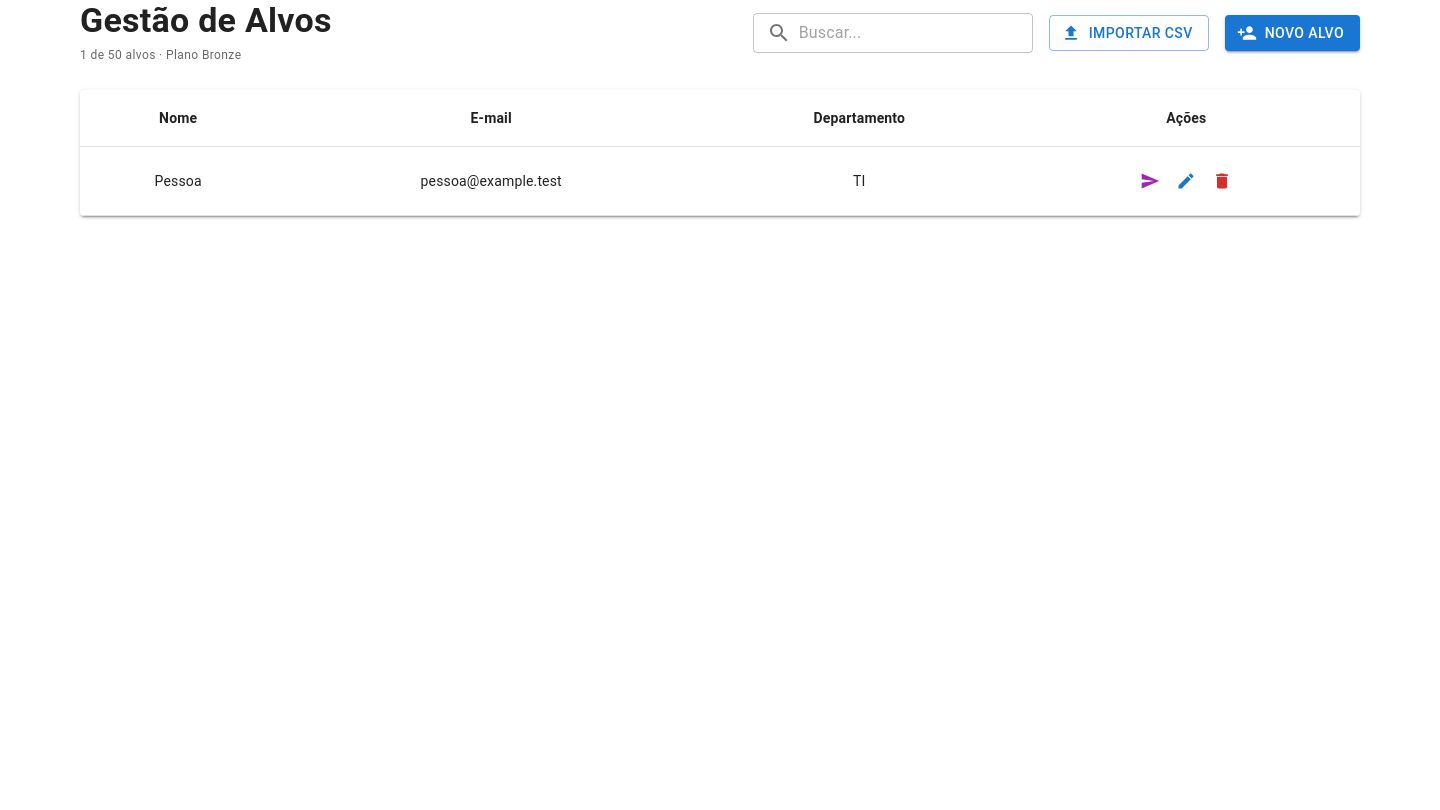
Test: Targets — conflitos de integridade › permite corrigir o cadastro e explica que campanhas ativadas preservam os destinatários
The image size is (1440, 810).
Expected: the text "pessoa@example.test" is shown, [276, 146, 706, 216]
Click the button named "Editar alvo" at point(1186, 181), box [1168, 163, 1204, 199]
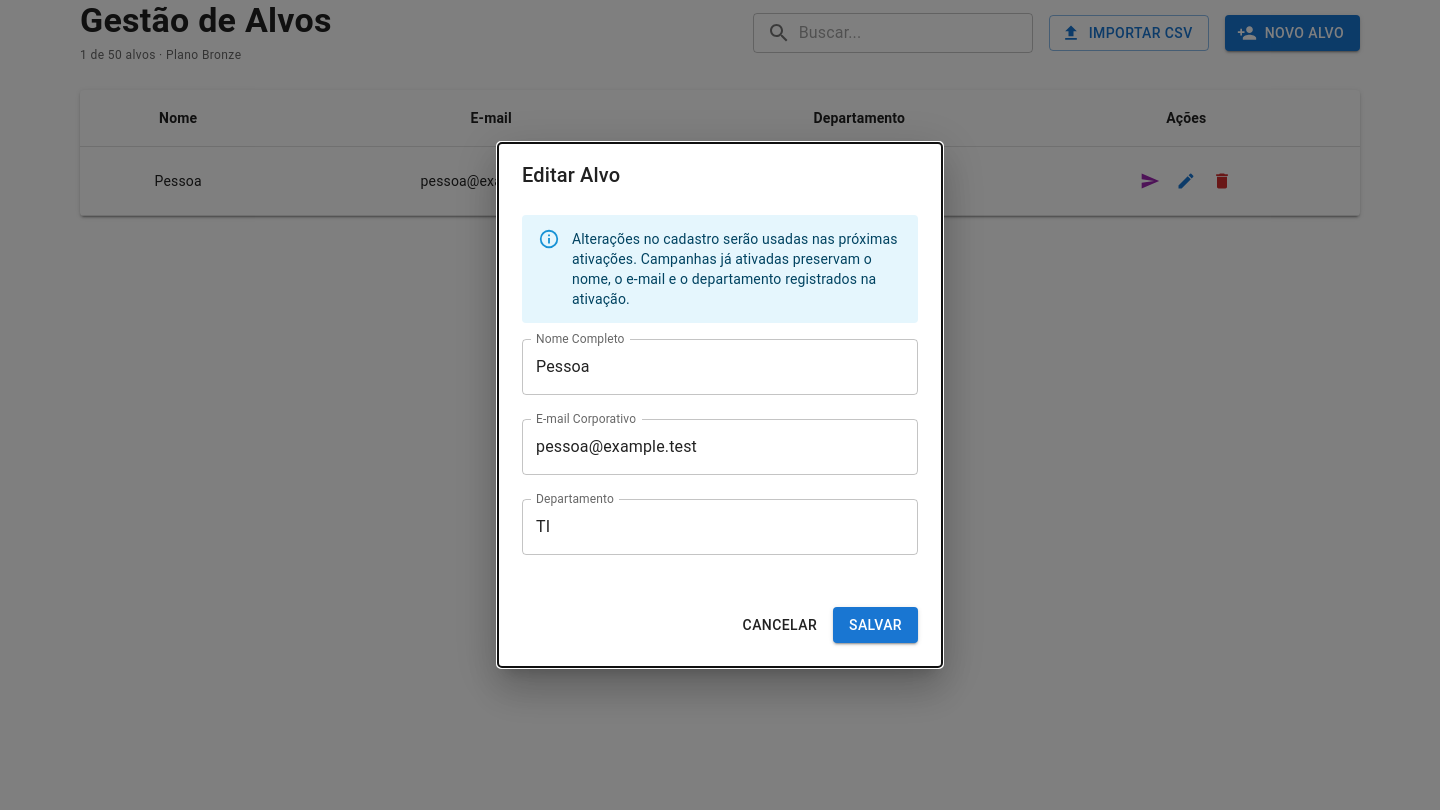
Now the text "Campanhas já ativadas preservam o nome" is shown, box [572, 231, 898, 307]
Replace the text in the field labelled "E-mail Corporativo" with "novo@example.test" at point(720, 447), box [522, 419, 918, 475]
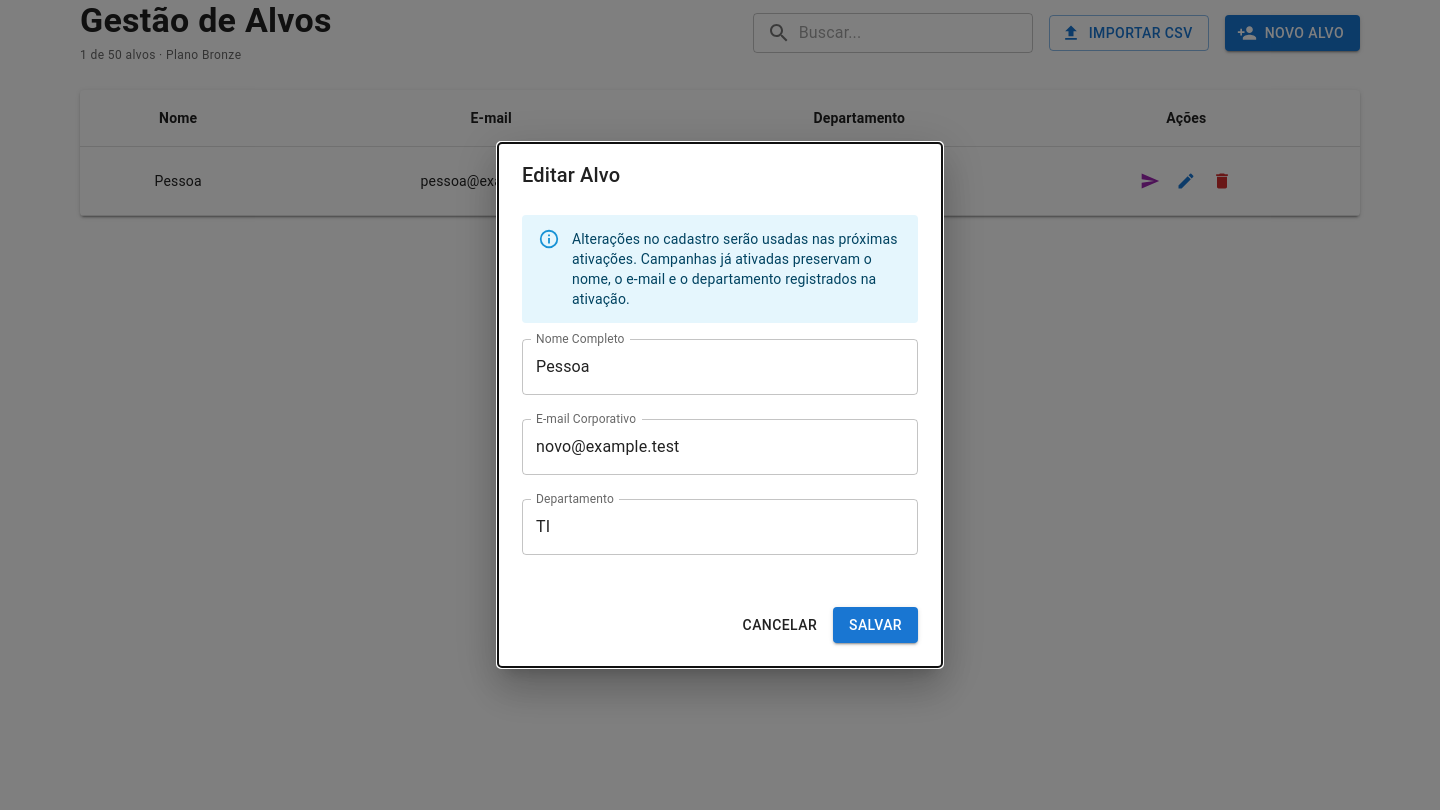
Replace the text in the field labelled "Departamento" with "Financeiro" at point(720, 527), box [522, 499, 918, 555]
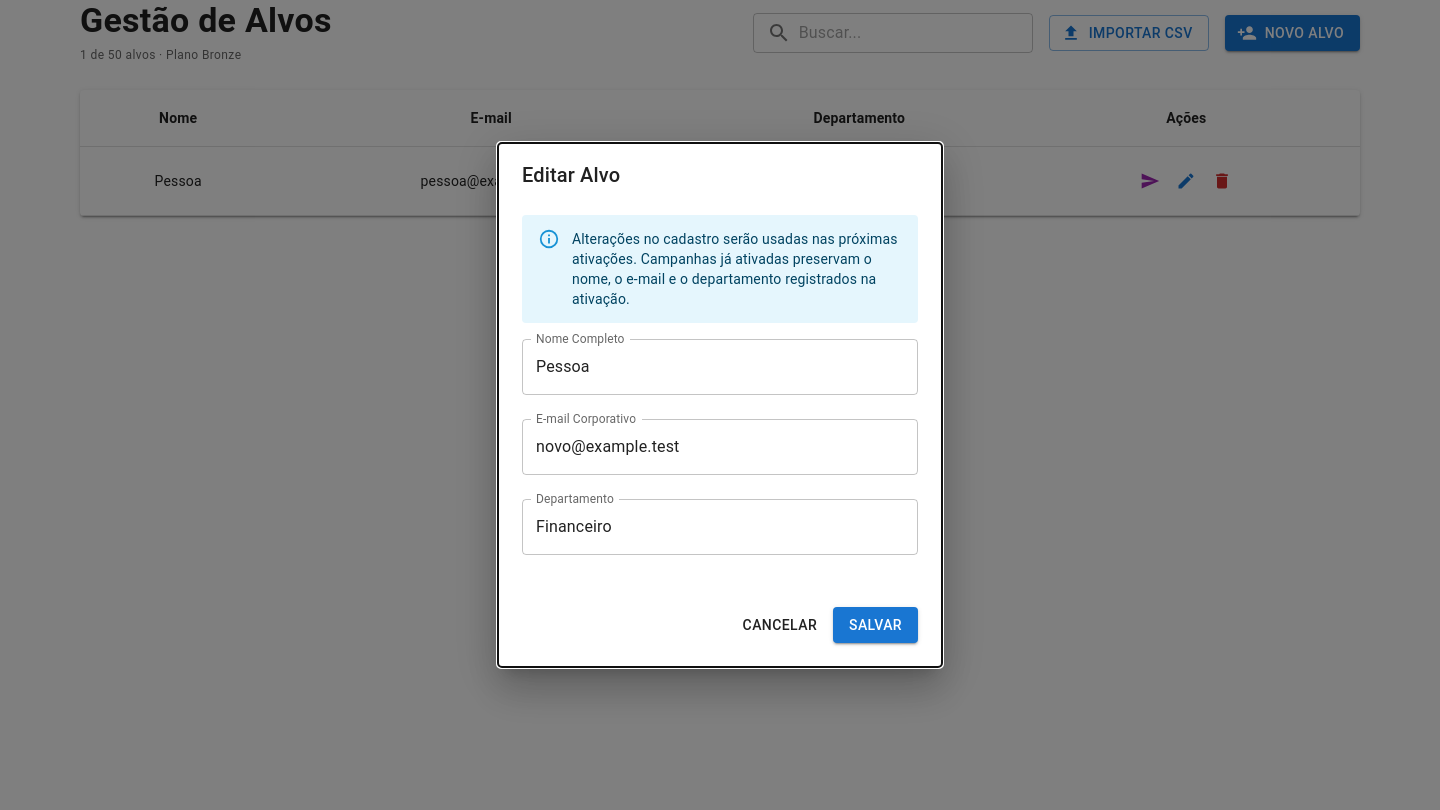
Click the button "Salvar" at point(876, 625), box [833, 607, 918, 643]
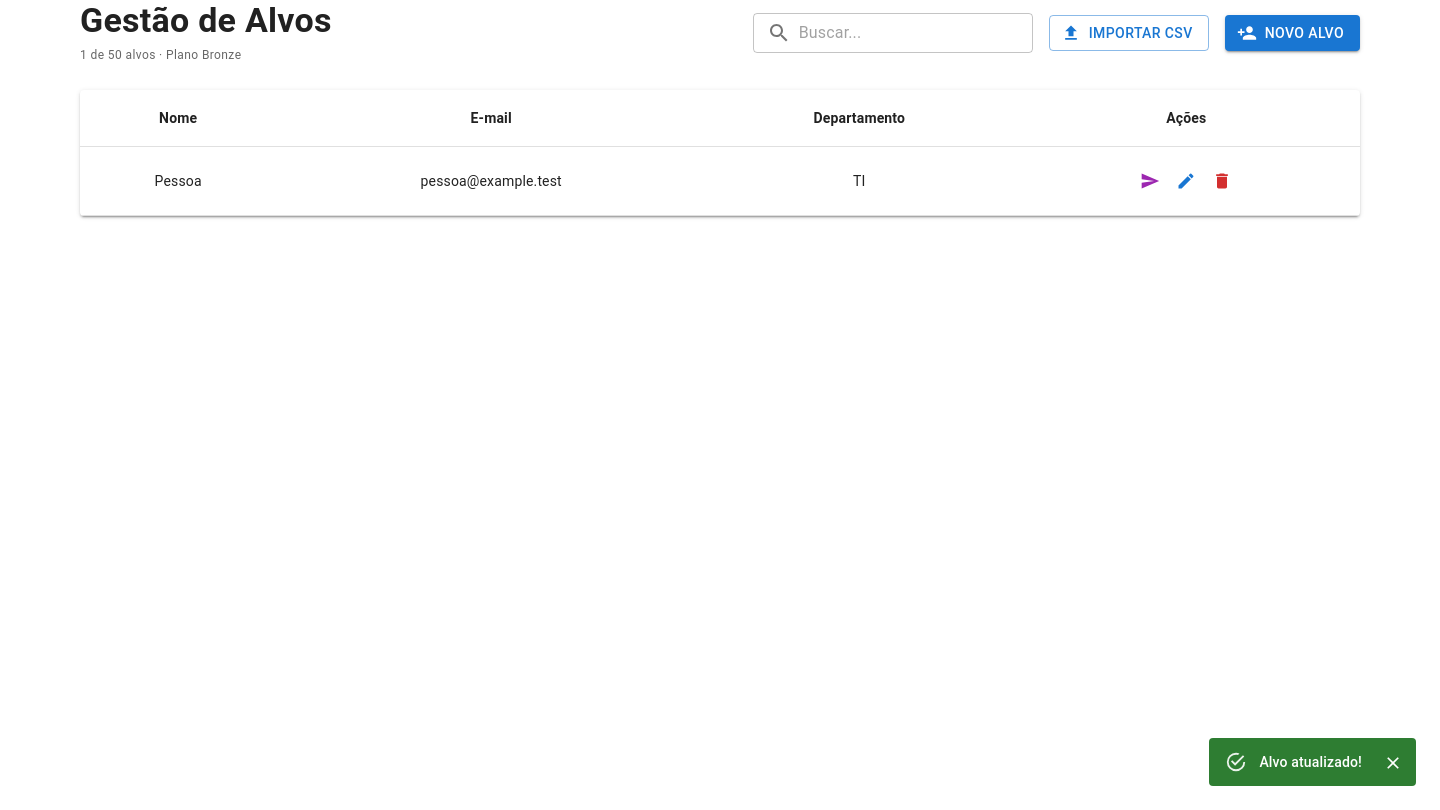
Now the text "Alvo atualizado!" is shown, box [1259, 754, 1362, 770]
